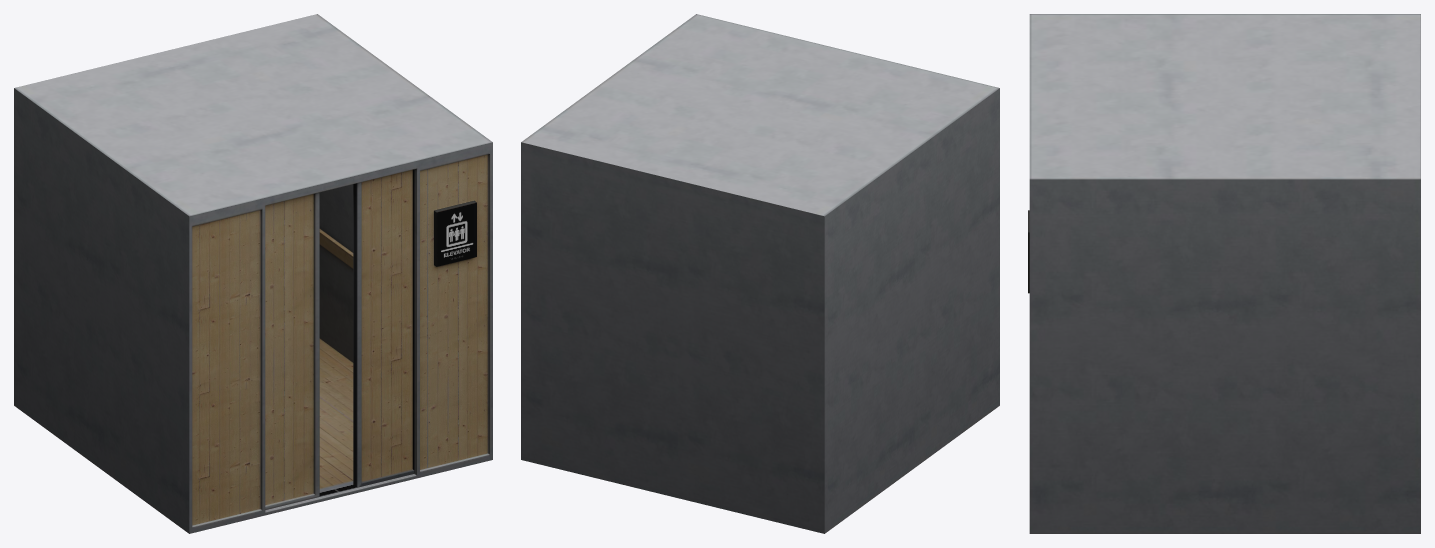
Rendered from ascensor.glb.
3 renders of one model, left to right at view 1: azimuth 30°, elevation 25°; view 2: azimuth 150°, elevation 25°; view 3: azimuth 270°, elevation 25°, orthographic. The views are drawn at different scales.
Parts seen in each view (by area): view 1: Object_8; view 2: Object_8; view 3: Object_8.
Boxes of the visible parts, x1=… form: Object_8: x1=14, y1=14, x2=492, y2=533; Object_8: x1=521, y1=14, x2=999, y2=533; Object_8: x1=1028, y1=14, x2=1420, y2=533.
Size of the model in its own units: 0.4563 by 0.4563 by 0.4581.
2 materials, 1 textured.
